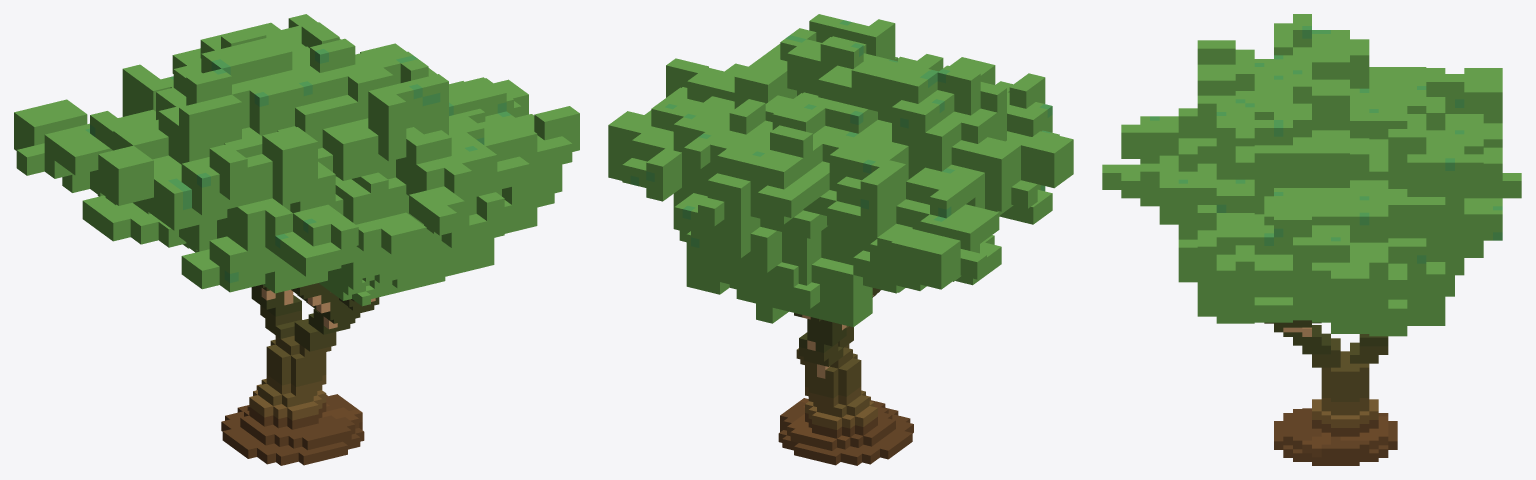
The model's file is 2_2 acero.obj.
The picture shows the model from 3 angles, left to right: view 1: azimuth 30°, elevation 25°; view 2: azimuth 150°, elevation 25°; view 3: azimuth 270°, elevation 25°; orthographic projection. The views are drawn at different scales.
Bounding box in the file's own units: 5 × 4.3 × 4.4.
Materials: 1 (1 with a texture image).
